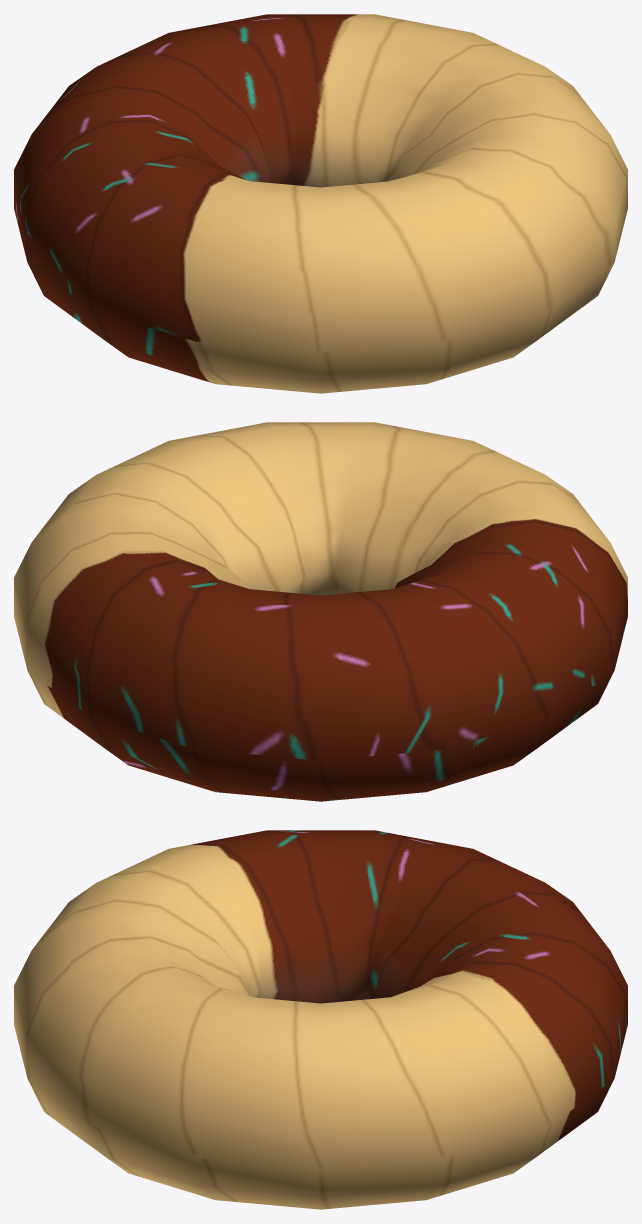
The model's file is donut.fbx.
The picture shows the model from 3 angles, top to bottom: view 1: azimuth 30°, elevation 25°; view 2: azimuth 150°, elevation 25°; view 3: azimuth 270°, elevation 25°; orthographic projection.
Visible parts, largest first — view 1: pTorus1; view 2: pTorus1; view 3: pTorus1.
Part boxes in pixels (<box>): pTorus1: <box>14,14,627,393</box>; pTorus1: <box>14,422,627,801</box>; pTorus1: <box>14,830,627,1209</box>.
Size of the model in its own units: 147 by 49.73 by 148.
Materials: 1 (1 with a texture image).
